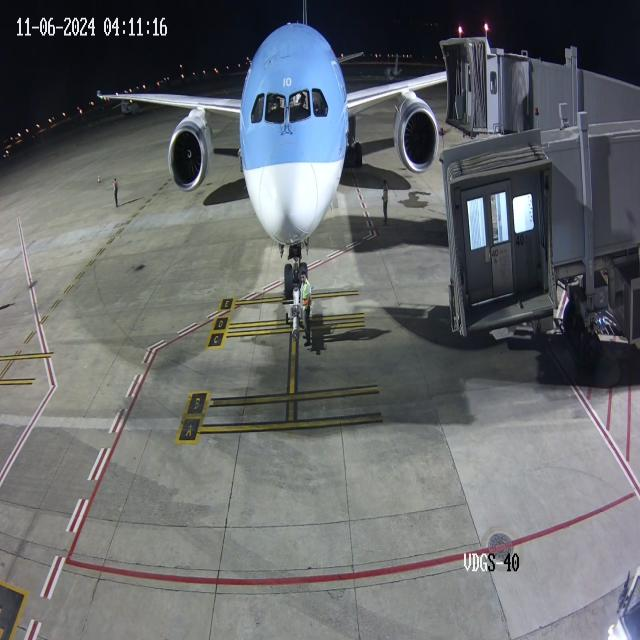bridge: (470, 33, 534, 143)
plane: (87, 0, 434, 304)
window: (247, 84, 334, 130)
